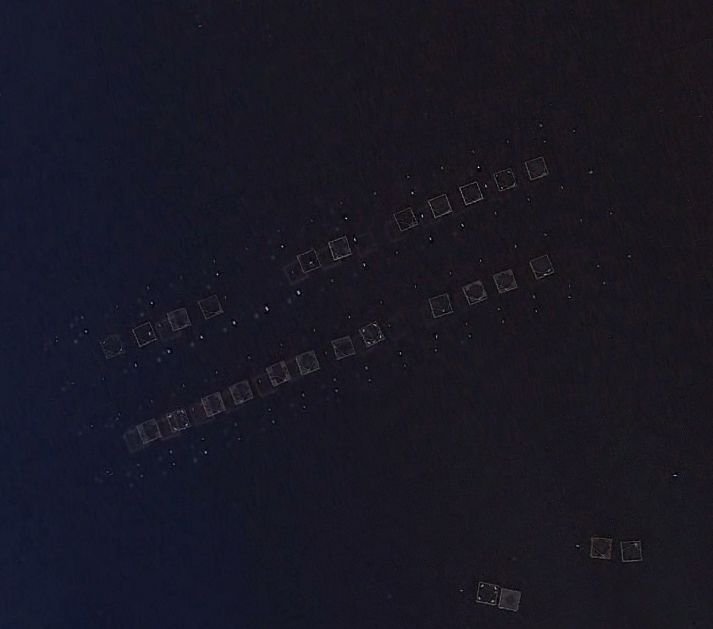square: (421, 182, 462, 222), (420, 282, 462, 321), (324, 323, 363, 364), (126, 409, 167, 447), (259, 353, 298, 392), (492, 581, 532, 617), (457, 273, 495, 310), (354, 315, 392, 352), (190, 290, 232, 323), (583, 525, 620, 562), (468, 572, 504, 609), (488, 259, 523, 297), (291, 340, 326, 378), (321, 231, 360, 265), (388, 199, 423, 236), (92, 328, 129, 363), (194, 388, 232, 422), (292, 242, 327, 277), (454, 175, 490, 209), (518, 150, 551, 186), (487, 161, 523, 194), (158, 299, 194, 332), (225, 375, 260, 408), (613, 535, 649, 567), (161, 399, 188, 438), (525, 250, 559, 280)
